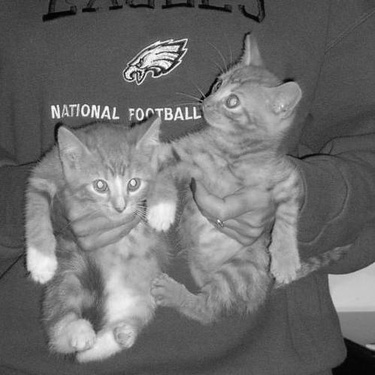cat: (145, 30, 305, 325), (26, 114, 178, 365)
